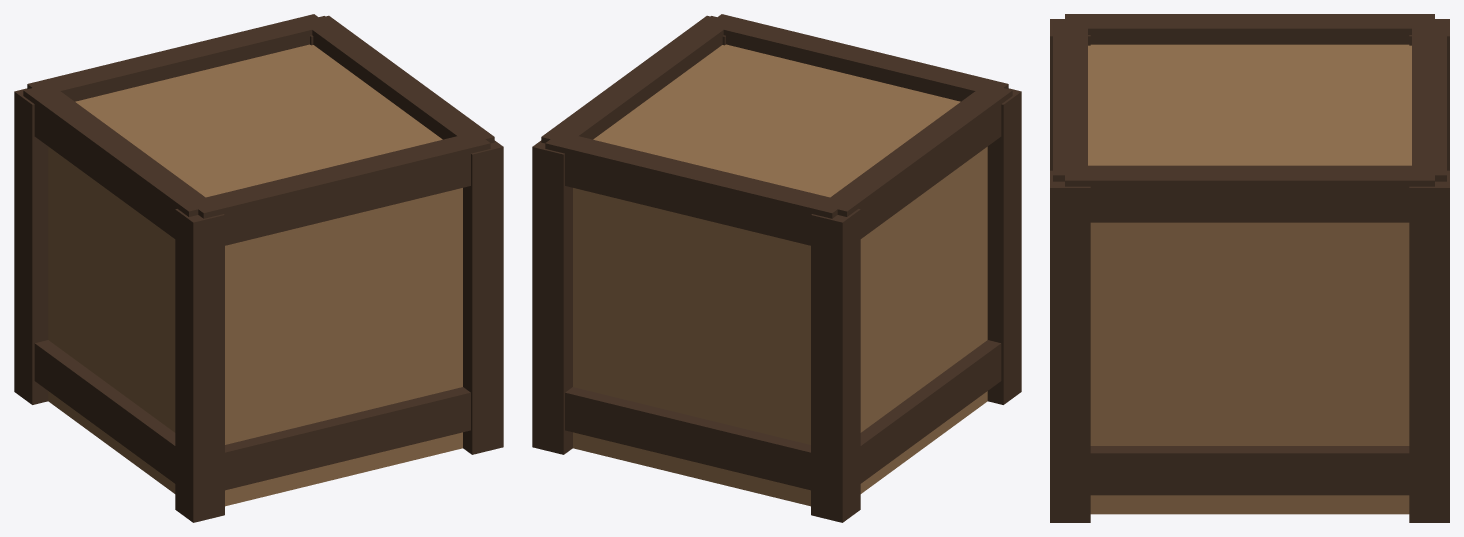
The model's file is crate.glb.
3 views of the same model, side by side, from view 1: azimuth 30°, elevation 25°; view 2: azimuth 150°, elevation 25°; view 3: azimuth 270°, elevation 25° (orthographic). The views are drawn at different scales.
Visible parts, largest first — view 1: crate_lod0; view 2: crate_lod0; view 3: crate_lod0.
Part boxes in pixels (bbox=[...]): crate_lod0: bbox=[14, 14, 503, 522]; crate_lod0: bbox=[532, 14, 1021, 522]; crate_lod0: bbox=[1050, 14, 1449, 522].
Size of what is drawn, in the model's own units: 0.757 by 0.713 by 0.757.
